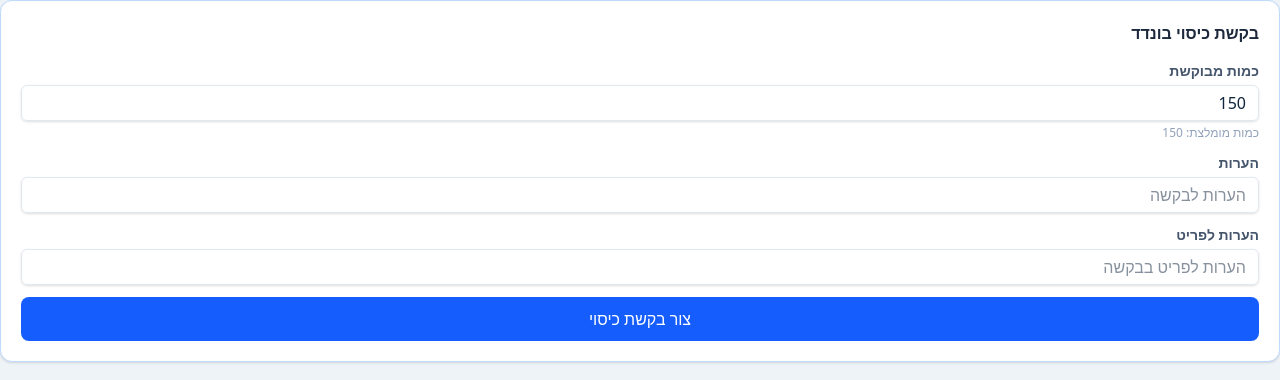
Scenario: BondedRequestCreateCard › disables submit button while pending
Click the button "צור בקשת כיסוי". click: (640, 319)
box: x1=21 y1=297 x2=1259 y2=341
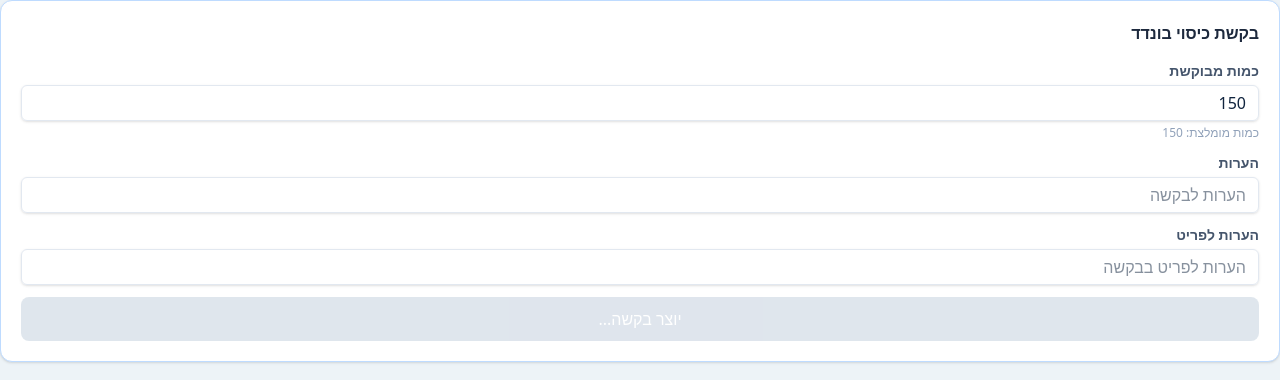
Expected: the button "יוצר בקשה..." is disabled, x1=21 y1=297 x2=1259 y2=341
